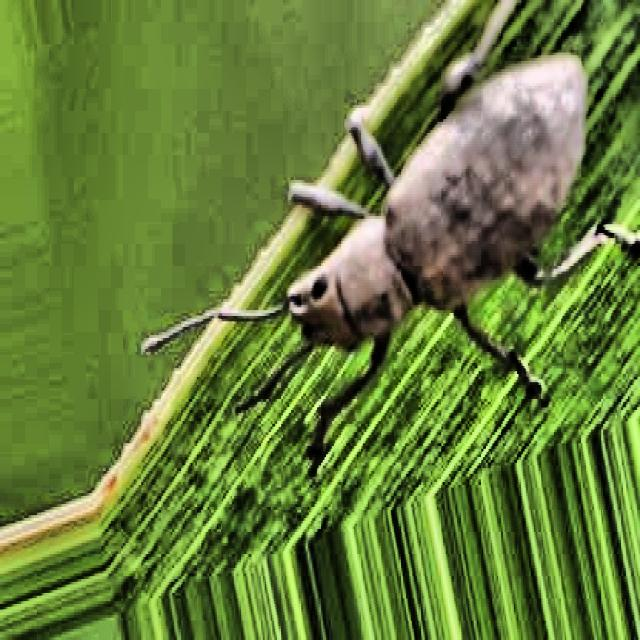Stink bug: (234, 60, 640, 388)
